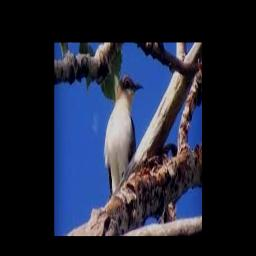Cuckoo: (104, 76, 144, 195)
